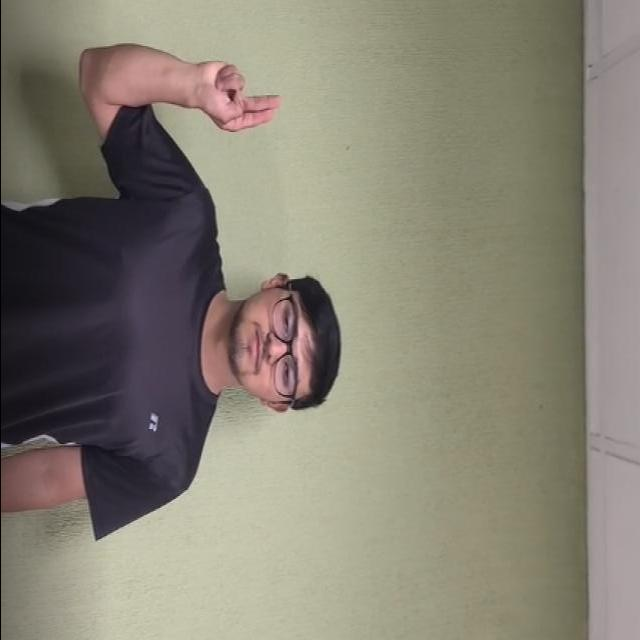U: (187, 41, 287, 158)
